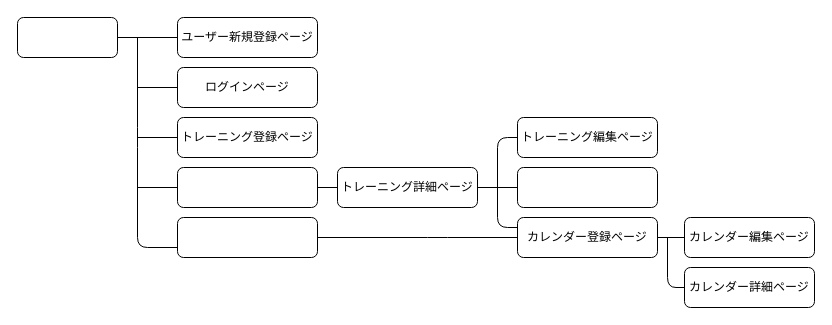
This 832x325 diagram has some shape labels left out. The shapes that lost their labels are listed below. From the top down, each one's centre as x and y in pixels, then its label:
At (67,37): "一覧ページ".
At (247,187): "トレーニング一覧ページ".
At (587,187): "トレーニング削除ページ".
At (247,237): "カレンダー一覧ページ".
